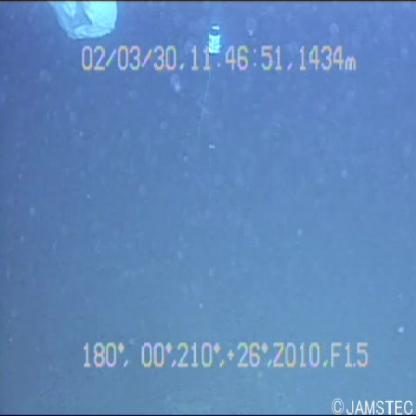Rác: (46, 2, 119, 48)
